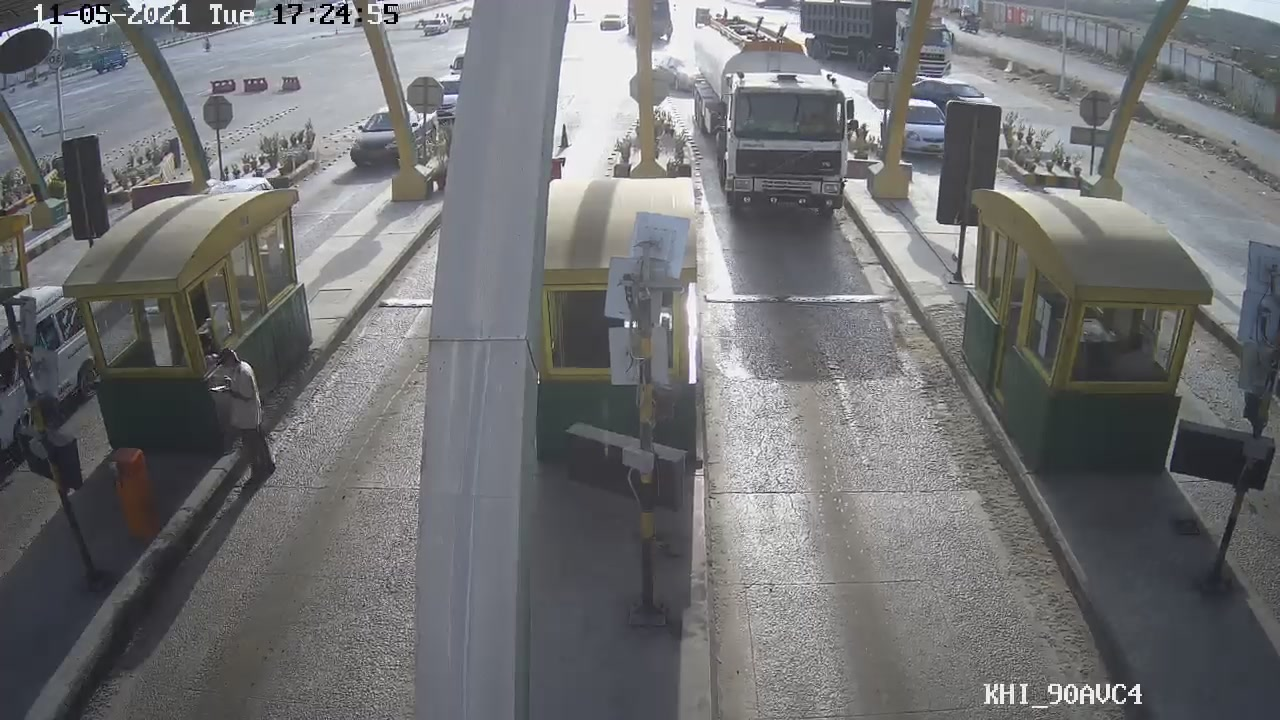F6: (683, 4, 876, 221)
